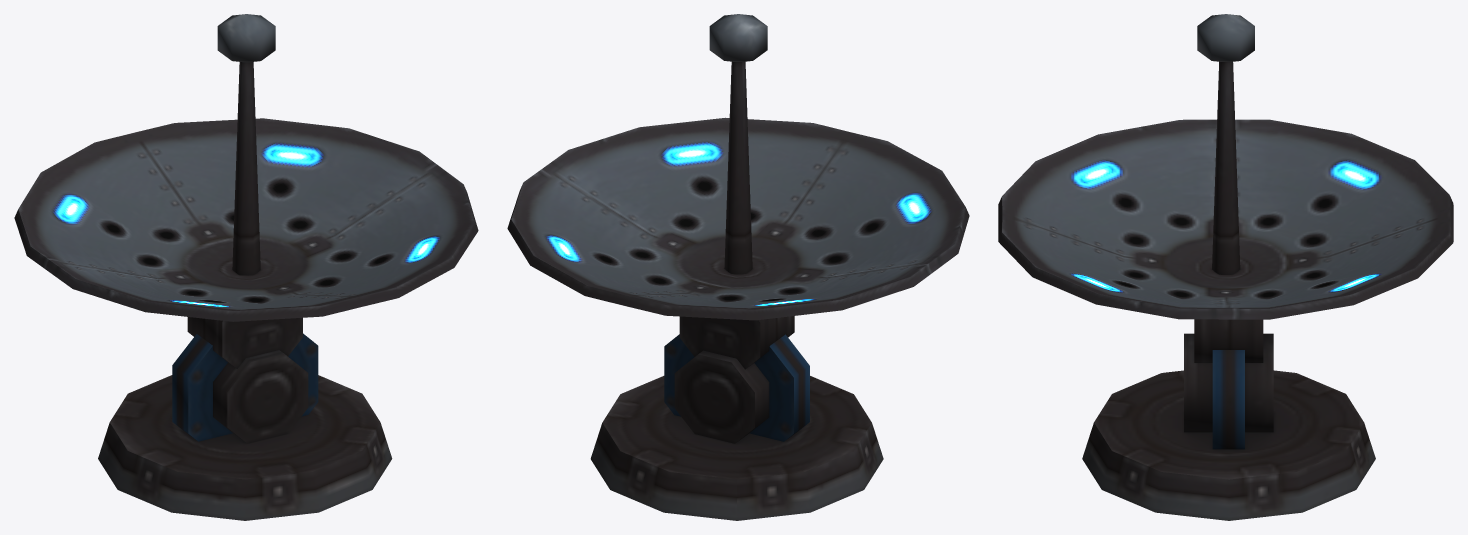
Rendered from Tow_Radar2.fbx.
3 renders of one model, left to right at view 1: azimuth 30°, elevation 25°; view 2: azimuth 150°, elevation 25°; view 3: azimuth 270°, elevation 25°, orthographic.
Visible parts, largest first — view 1: Turret, Base; view 2: Turret, Base; view 3: Turret, Base.
Part boxes in pixels (box(x1,y1,x2,y2)): Turret: box(14, 14, 478, 321); Base: box(98, 317, 392, 520); Turret: box(507, 14, 969, 320); Base: box(590, 316, 883, 520); Turret: box(998, 14, 1453, 319); Base: box(1082, 319, 1375, 520).
Size of the model in its own units: 174 by 187 by 173.
1 material, 1 textured.
